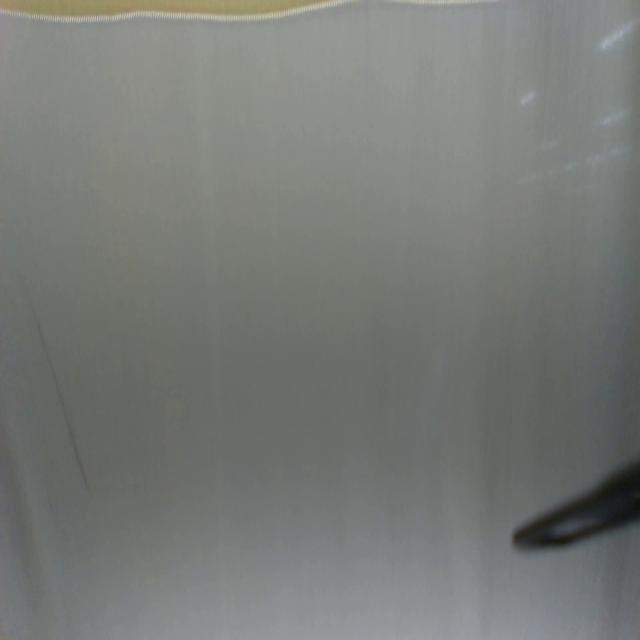crease: (19, 274, 94, 502)
